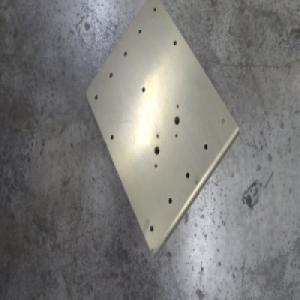MetalSheet: (83, 0, 241, 261)
